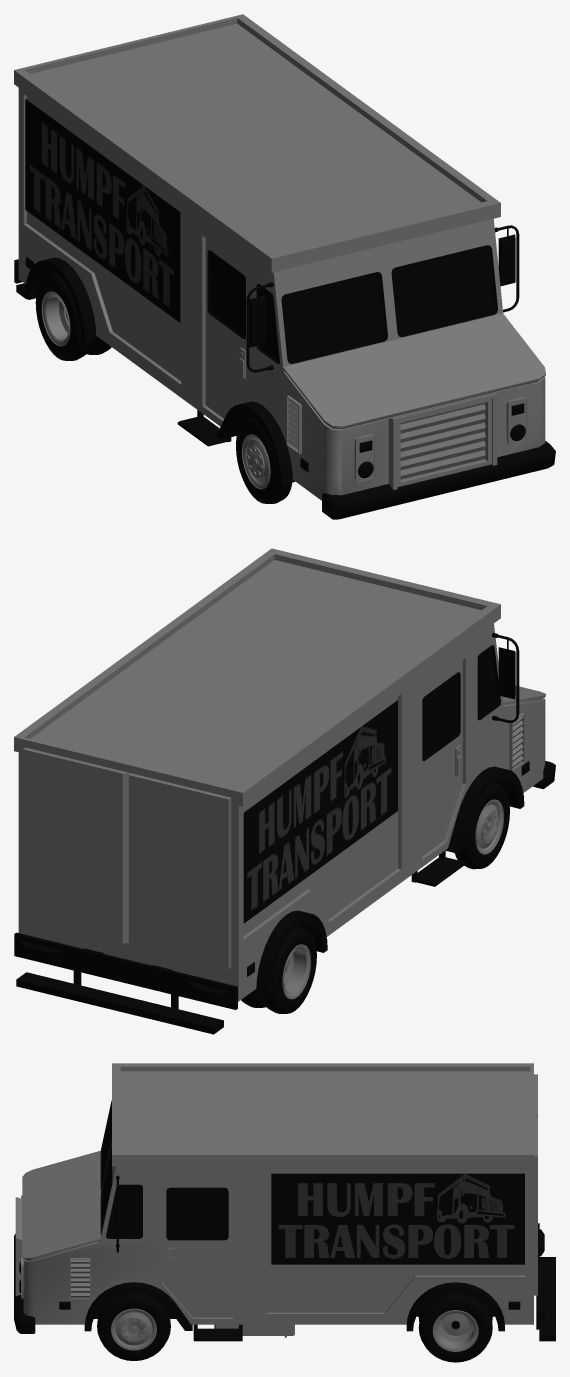
The model's file is truck.glb.
3 views of the same model, one above another, from view 1: azimuth 30°, elevation 25°; view 2: azimuth 150°, elevation 25°; view 3: azimuth 270°, elevation 25° (orthographic). The views are drawn at different scales.
Parts seen in each view (by area): view 1: Cube.019, Cylinder.010, Plane.001, Cube.029; view 2: Cube.019, Cylinder.010, Plane.001, Cube.029; view 3: Cube.019, Plane.001, Cylinder.010, Cube.029.
Boxes of the visible parts, left/top/right/bottom form: Cube.019: left=14, top=14, right=545, bottom=500; Cylinder.010: left=14, top=225, right=555, bottom=519; Plane.001: left=25, top=99, right=180, bottom=322; Cube.029: left=25, top=246, right=525, bottom=478; Cube.019: left=14, top=548, right=545, bottom=1001; Cylinder.010: left=14, top=633, right=555, bottom=1034; Plane.001: left=243, top=700, right=397, bottom=923; Cube.029: left=19, top=647, right=529, bottom=1004; Cube.019: left=15, top=1063, right=537, bottom=1351; Plane.001: left=271, top=1173, right=524, bottom=1264; Cylinder.010: left=14, top=1101, right=555, bottom=1362; Cube.029: left=19, top=1109, right=544, bottom=1323.
Bounding box in the file's own units: 132 × 118 × 279.
Materials: 4 (1 with a texture image).
